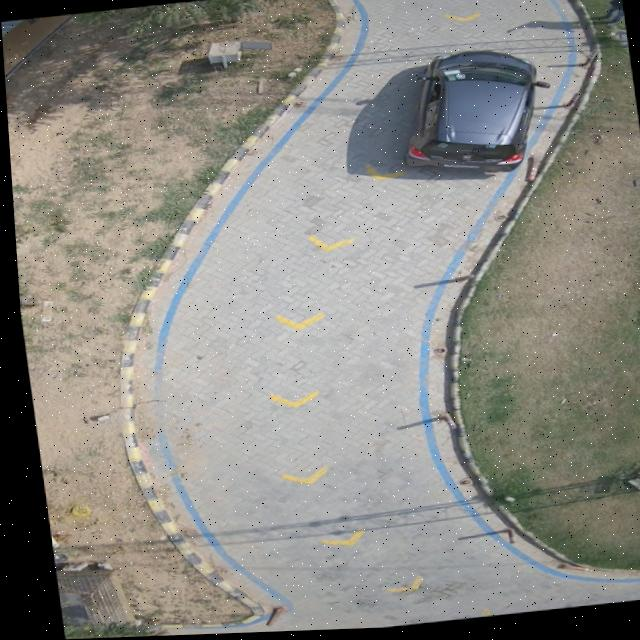car: (401, 54, 544, 178)
